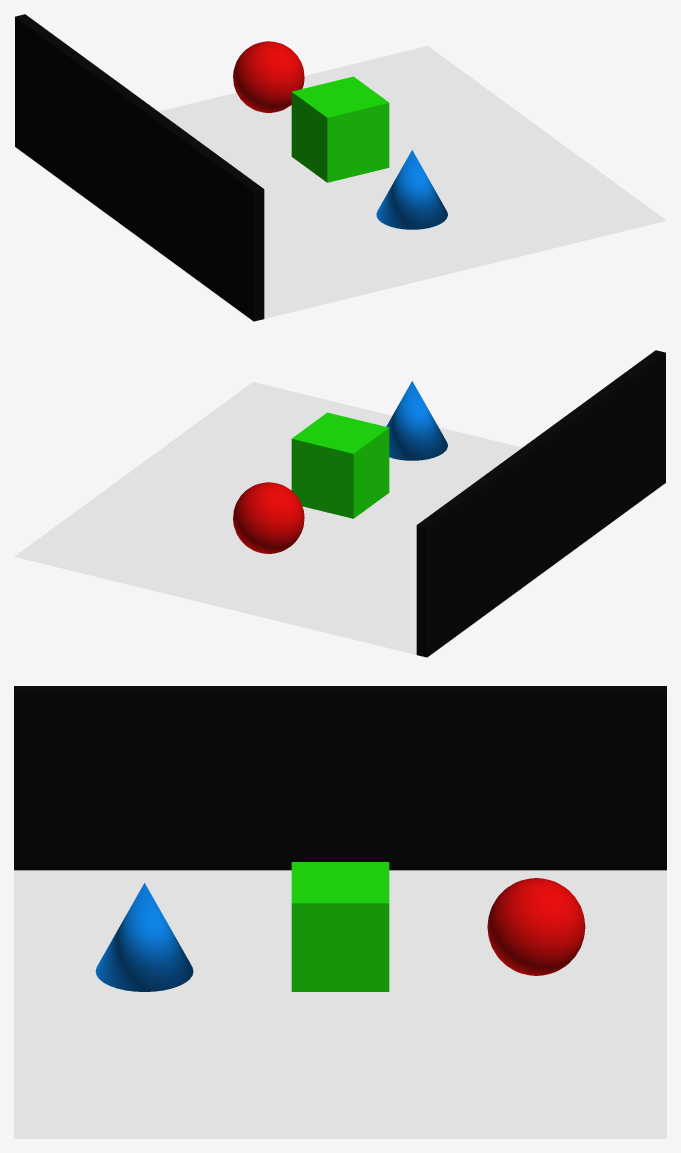
3 renders of one model, top to bottom at view 1: azimuth 30°, elevation 25°; view 2: azimuth 150°, elevation 25°; view 3: azimuth 270°, elevation 25°, orthographic. The views are drawn at different scales.
Parts seen in each view (by area): view 1: Plane, Cube, Cube.001, Sphere, Cone; view 2: Plane, Cube, Cube.001, Sphere, Cone; view 3: Plane, Cube, Cube.001, Sphere, Cone.
Boxes of the visible parts, x1=… form: Plane: x1=14, y1=46, x2=666, y2=321; Cube: x1=15, y1=14, x2=264, y2=321; Cube.001: x1=291, y1=76, x2=389, y2=182; Sphere: x1=233, y1=41, x2=304, y2=112; Cone: x1=376, y1=150, x2=447, y2=229; Plane: x1=14, y1=382, x2=666, y2=657; Cube: x1=416, y1=350, x2=665, y2=657; Cube.001: x1=291, y1=412, x2=389, y2=518; Sphere: x1=233, y1=482, x2=304, y2=553; Cone: x1=386, y1=381, x2=447, y2=460; Plane: x1=14, y1=870, x2=666, y2=1138; Cube: x1=14, y1=686, x2=666, y2=870; Cube.001: x1=291, y1=862, x2=389, y2=991; Sphere: x1=487, y1=878, x2=585, y2=975; Cone: x1=95, y1=883, x2=193, y2=991.
Bounding box in the file's own units: 20 × 6 × 20.
